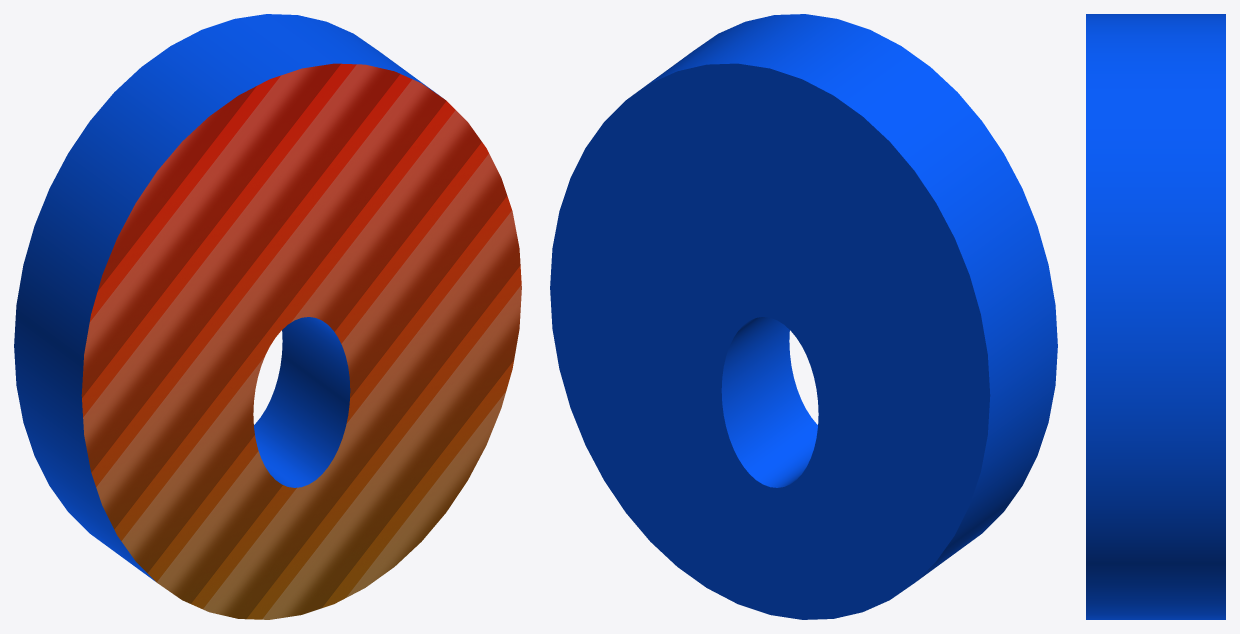
The picture shows the model from 3 angles, left to right: view 1: azimuth 30°, elevation 25°; view 2: azimuth 150°, elevation 25°; view 3: azimuth 270°, elevation 25°; orthographic projection. The views are drawn at different scales.
Visible parts, largest first — view 1: 0; view 2: 0; view 3: 0.
Part boxes in pixels (x1,y1,x2,y2): 0: (14, 14, 521, 619); 0: (550, 14, 1057, 619); 0: (1086, 14, 1225, 619).
Bounding box in the file's own units: 75.07 × 89.06 × 20.
2 materials, 1 textured.
